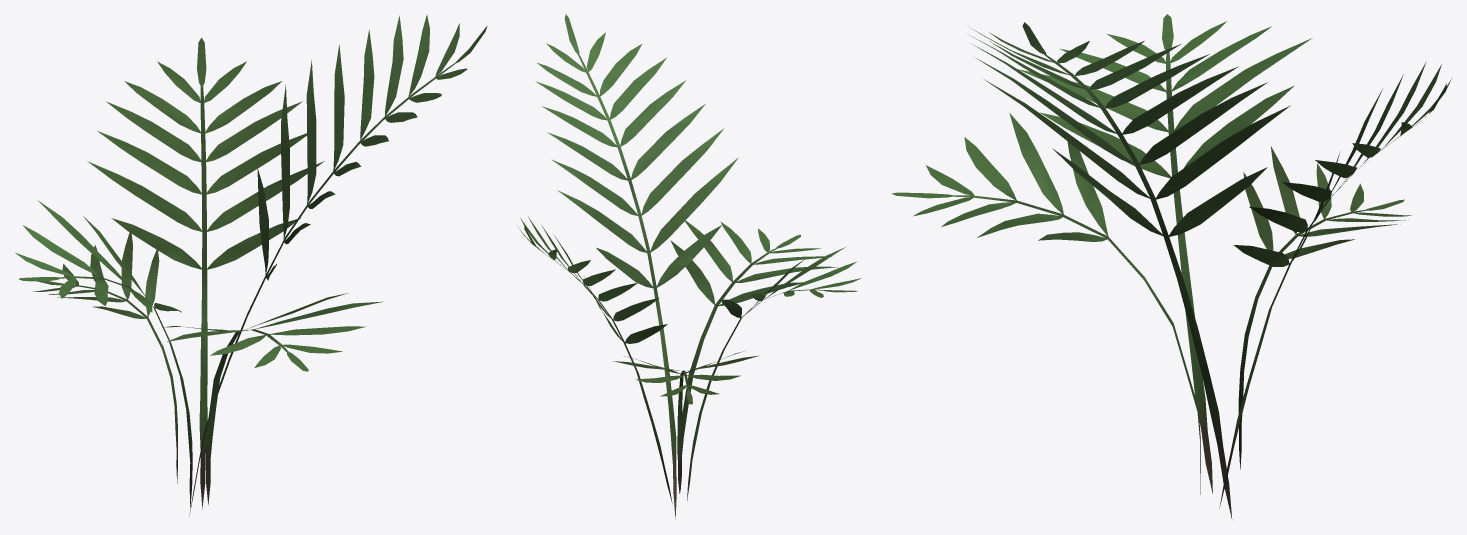
The model's file is plants-trees-palms-parlor-palm_v4.fbx.
3 renders of one model, left to right at view 1: azimuth 30°, elevation 25°; view 2: azimuth 150°, elevation 25°; view 3: azimuth 270°, elevation 25°, orthographic. The views are drawn at different scales.
Visible parts, largest first — view 1: Parlor Palm_v4; view 2: Parlor Palm_v4; view 3: Parlor Palm_v4.
Boxes of the visible parts, x1,y1,x2,y2 form: Parlor Palm_v4: [15, 14, 487, 515]; Parlor Palm_v4: [518, 14, 861, 519]; Parlor Palm_v4: [892, 14, 1451, 519].
Bounding box in the file's own units: 0.8574 × 1 × 0.8062.
